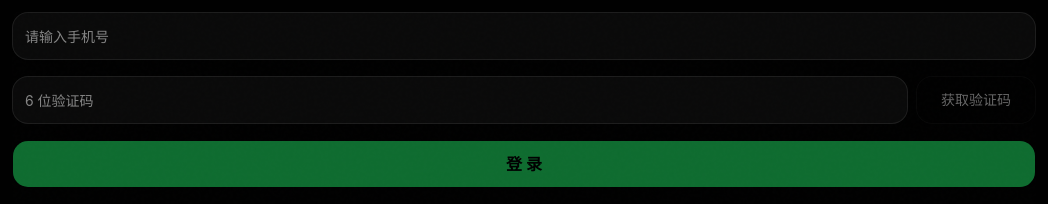
it: PhoneLoginForm › phone number validation › strips non-digit input
Type "abc13800138000xyz" into the field with placeholder "请输入手机号" at {"x": 524, "y": 36}, box x1=12 y1=12 x2=1036 y2=60
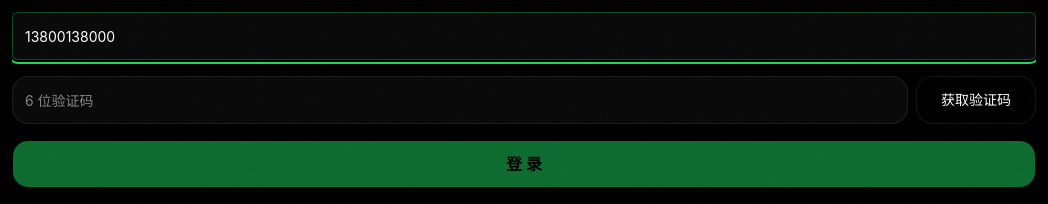
Check: the field with placeholder "请输入手机号" holds "13800138000", box x1=12 y1=12 x2=1036 y2=60
